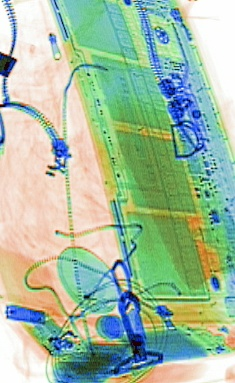powerbank: (45, 331, 140, 381)
